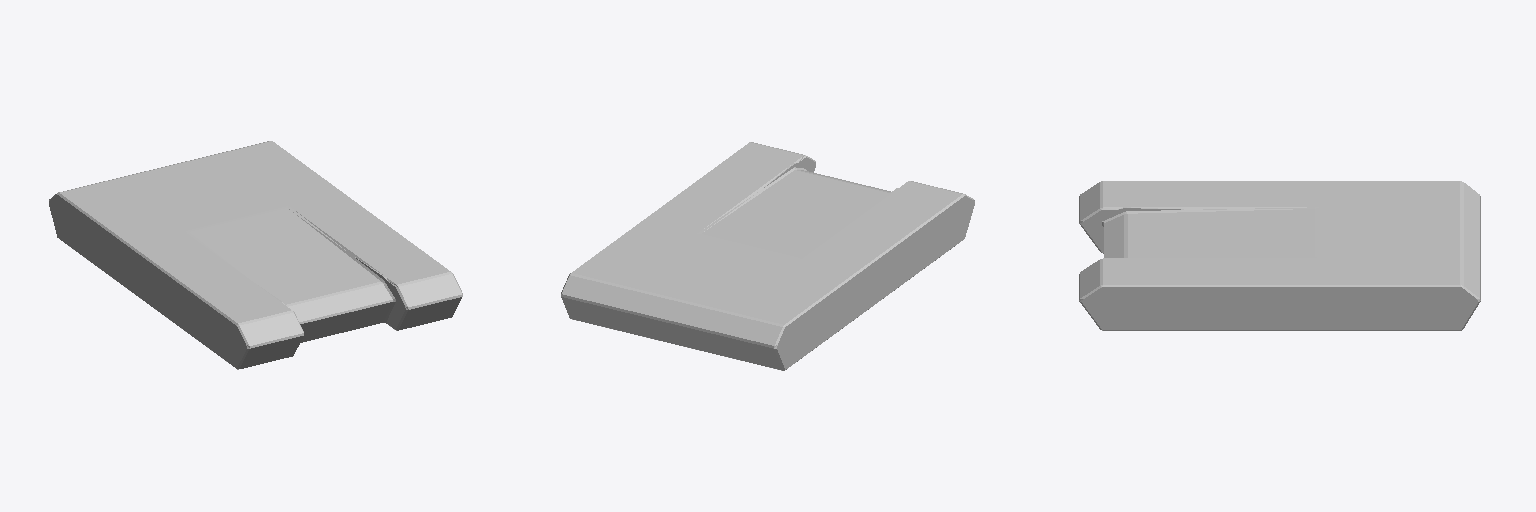
The model's file is large_tank_body.obj.
3 renders of one model, left to right at view 1: azimuth 30°, elevation 25°; view 2: azimuth 150°, elevation 25°; view 3: azimuth 270°, elevation 25°, orthographic.
Visible parts, largest first — view 1: Plane.006_Plane.015; view 2: Plane.006_Plane.015; view 3: Plane.006_Plane.015.
Part boxes in pixels (bbox=[...]): Plane.006_Plane.015: bbox=[49, 141, 462, 369]; Plane.006_Plane.015: bbox=[561, 142, 974, 370]; Plane.006_Plane.015: bbox=[1079, 181, 1480, 330].
Bounding box in the file's own units: 0.6218 × 0.1273 × 1.